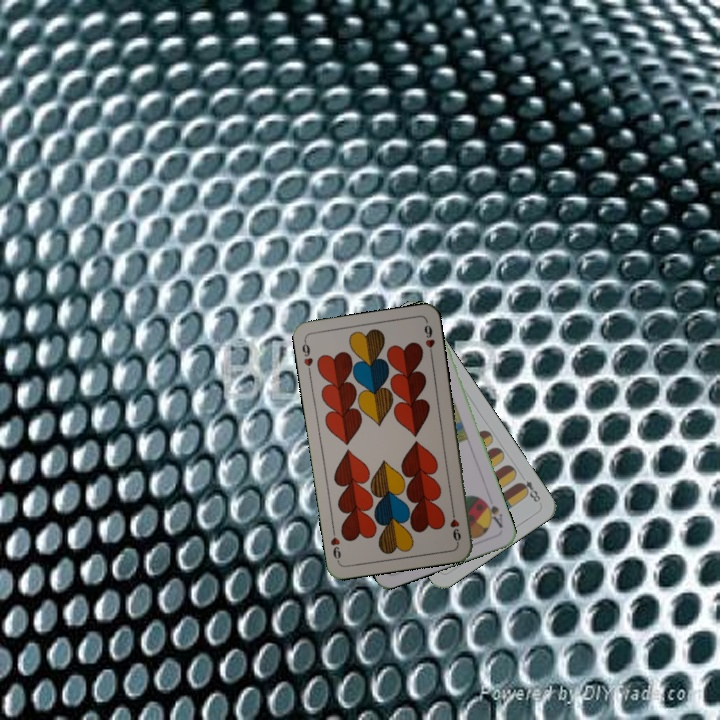E8: (515, 476, 543, 505)
H9: (446, 505, 464, 546), (298, 336, 316, 369)
SA: (479, 495, 505, 531)
